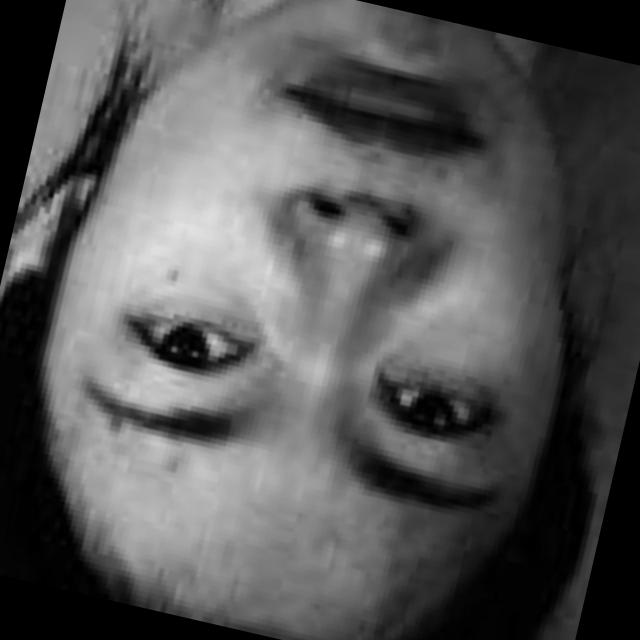sad: (39, 0, 617, 581)
